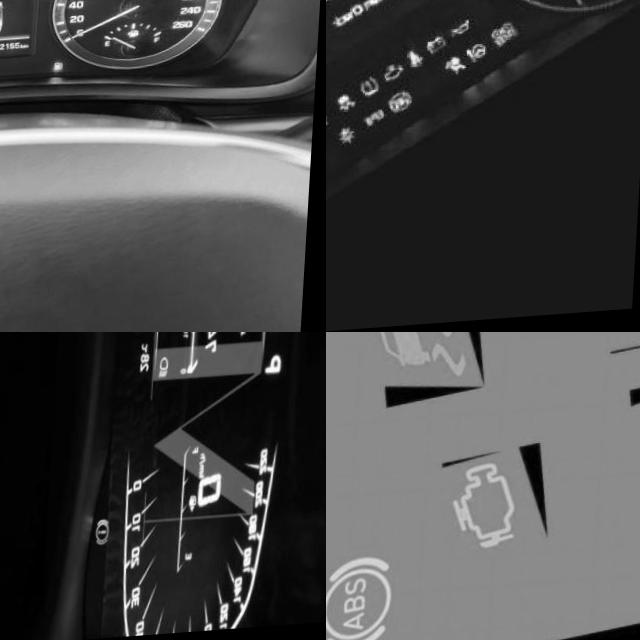Seat Belt: (400, 53, 422, 76)
